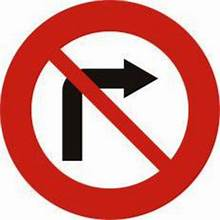No_turn_right: (1, 1, 220, 220)
